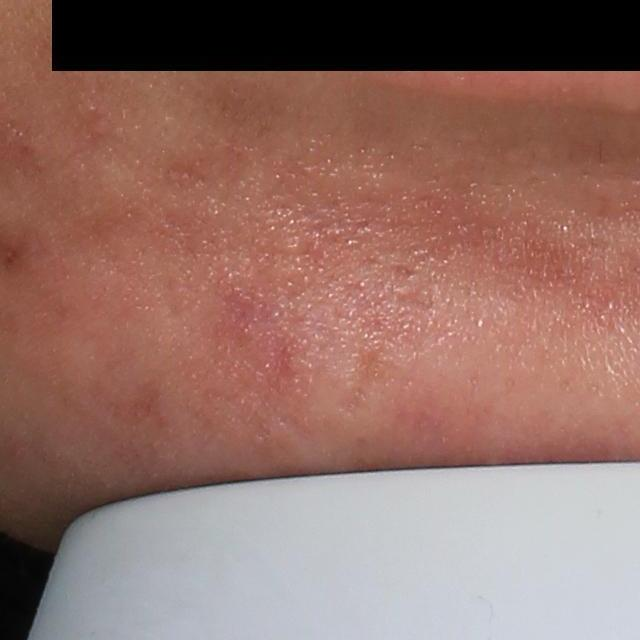atrophic_scar: (333, 335, 392, 418), (387, 261, 413, 286)
